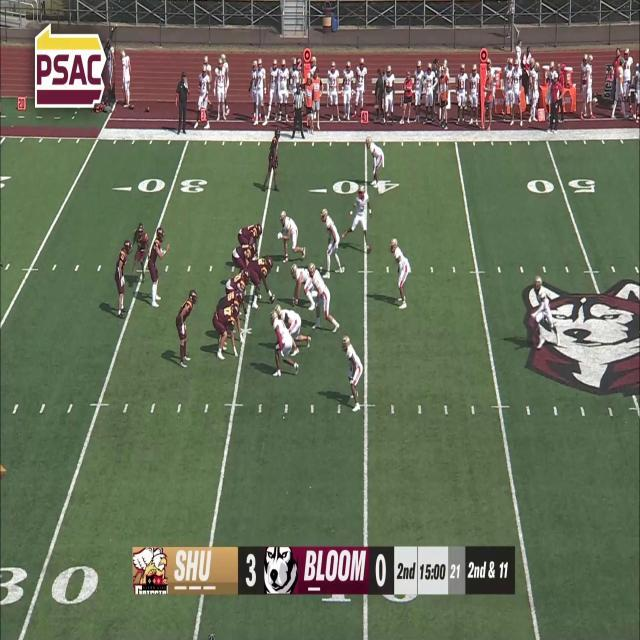football: (268, 292, 275, 304)
